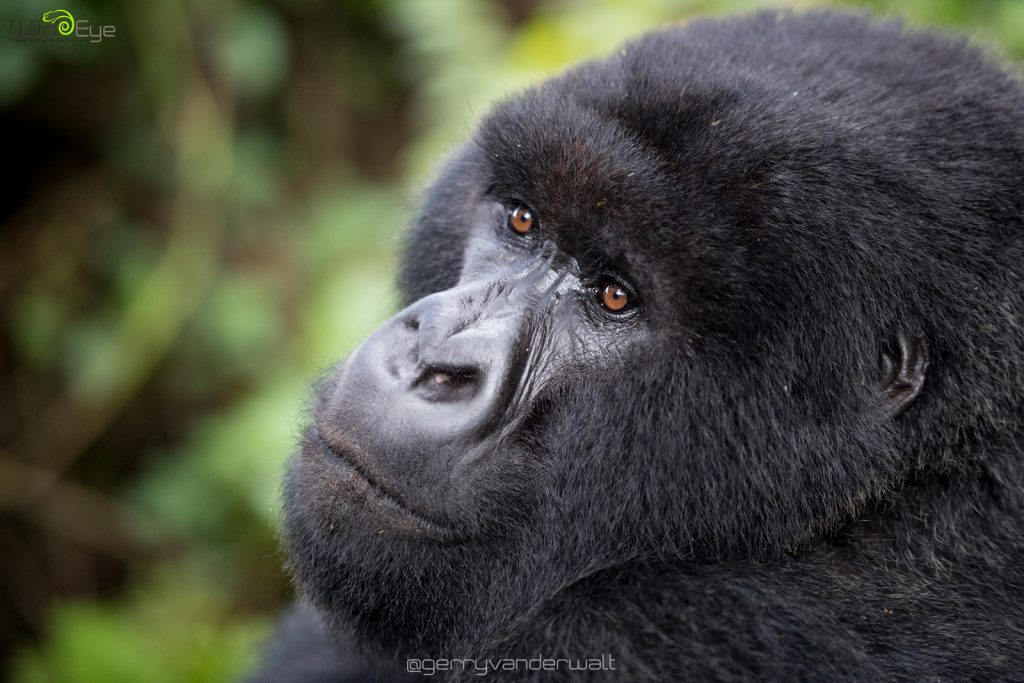Goriila: (169, 5, 1008, 683)
